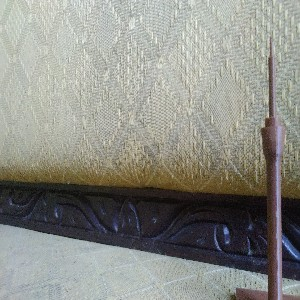solder: (259, 35, 284, 300)
